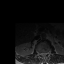CCS_normal: (43, 50, 44, 58)
LFS_normal: (46, 49, 48, 56)
LLS_normal: (44, 50, 46, 57)
RFS_normal: (39, 50, 40, 57)
RLS_normal: (40, 50, 43, 57)
